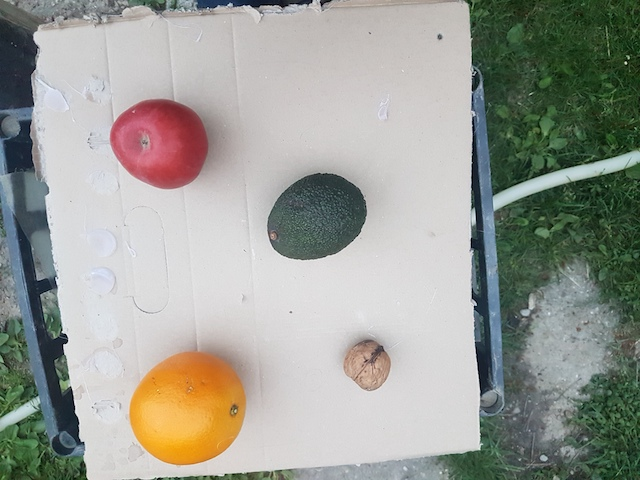apple: (107, 97, 208, 192)
avocado: (263, 173, 372, 262)
nut: (341, 336, 393, 395)
orange: (124, 353, 249, 466)
